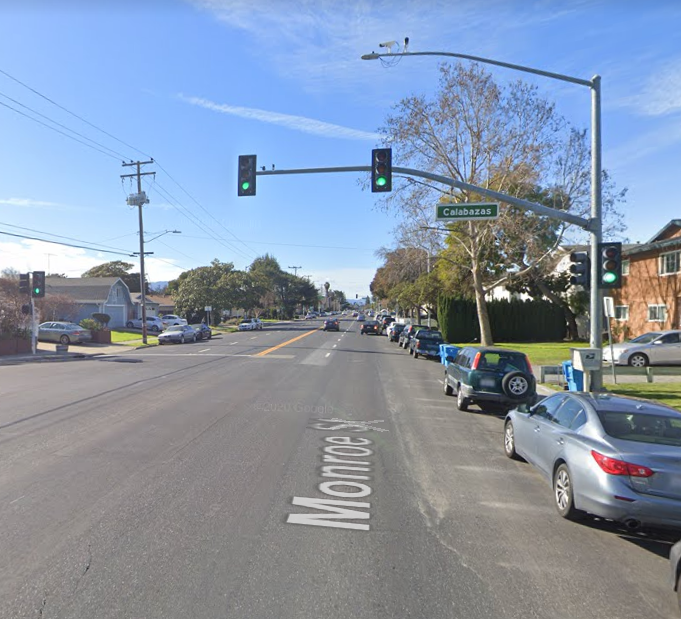green_light: (598, 243, 622, 290), (372, 150, 392, 190), (237, 156, 255, 196)
